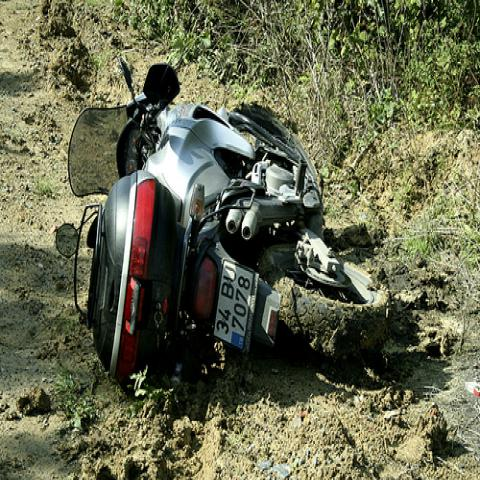motorcycle: (56, 59, 387, 388)
